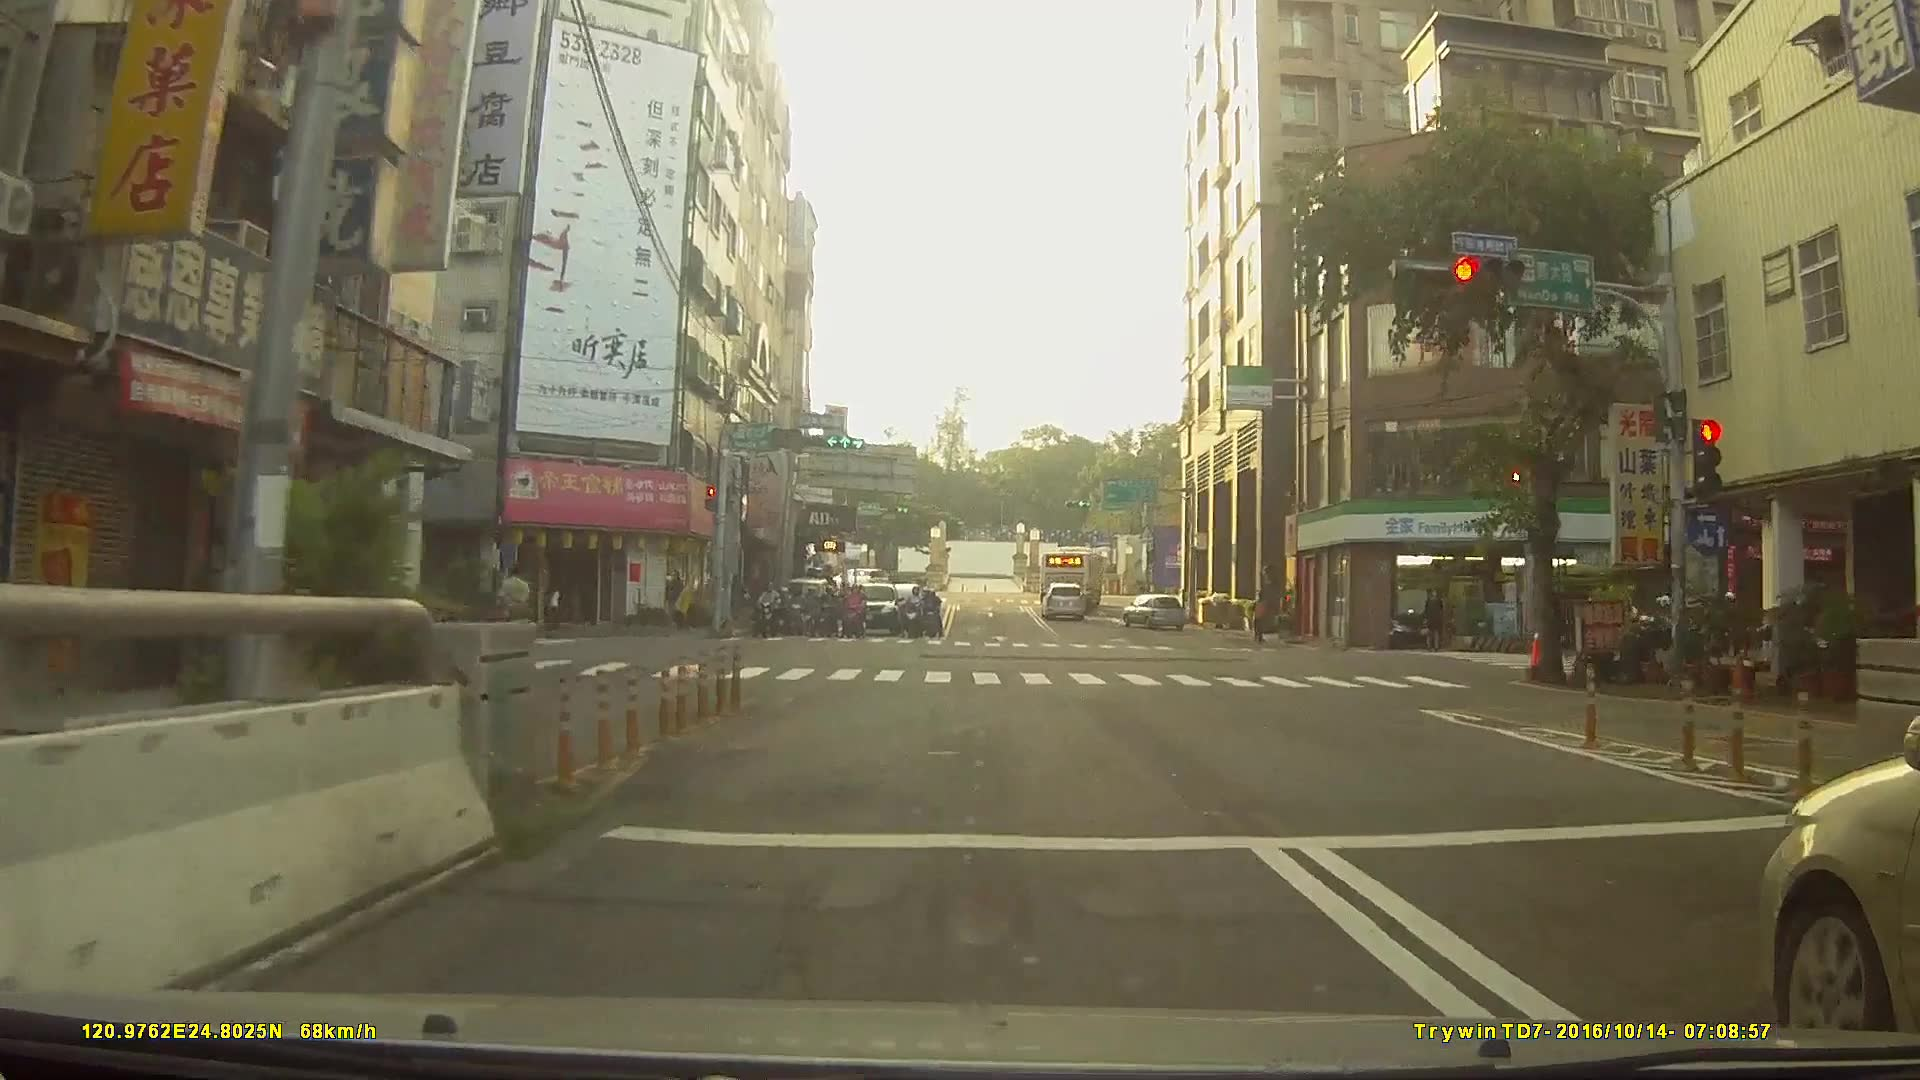pedestrian: (495, 562, 538, 661), (1417, 585, 1443, 652), (1251, 593, 1271, 646), (547, 580, 567, 633)
rider: (754, 580, 783, 641), (839, 585, 868, 642), (818, 584, 842, 641), (786, 587, 811, 639), (903, 586, 925, 640), (921, 597, 942, 649)
vehicle: (1038, 543, 1108, 611), (842, 582, 902, 641), (1120, 590, 1186, 629), (1039, 581, 1089, 620), (832, 564, 887, 589)
